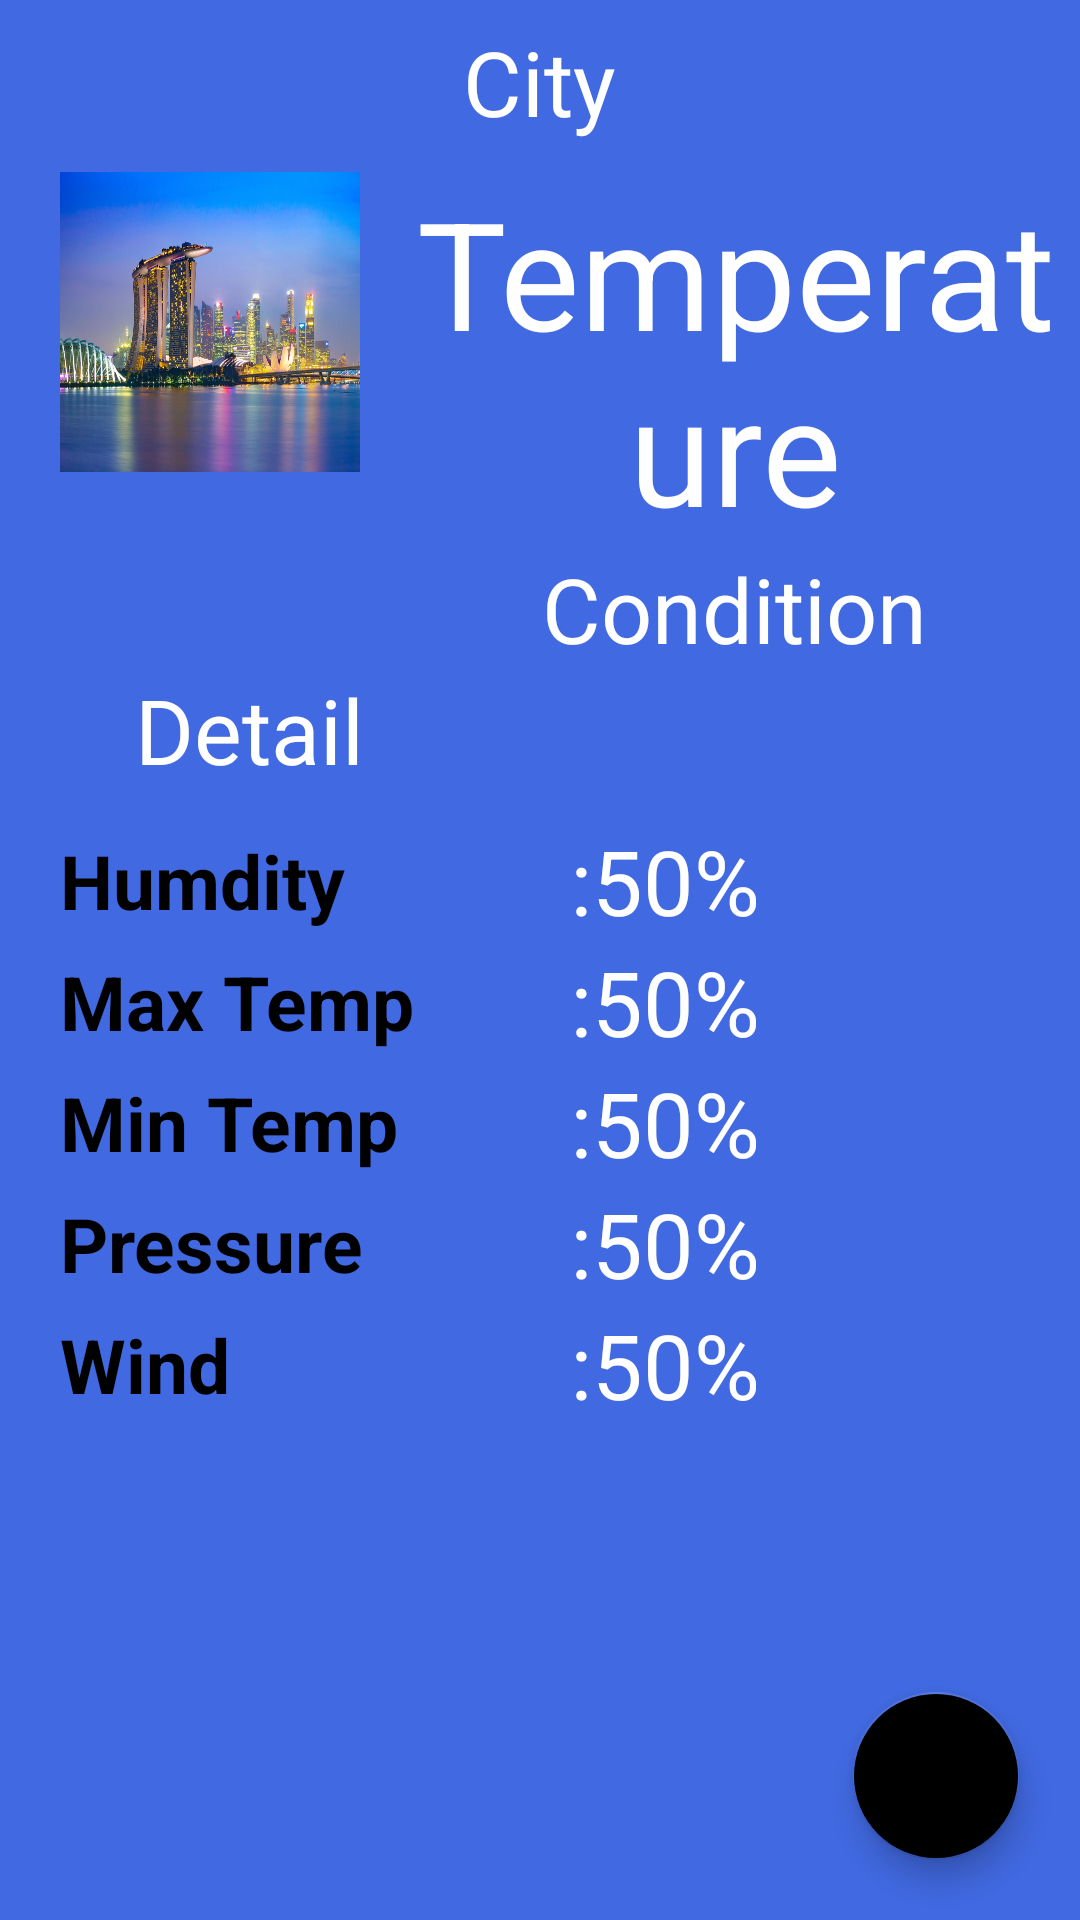

Locate icon controls on the screen. Image size 1080 × 1920, boxes as (x1, y1, x2, y2).
sgweather: (60, 172, 360, 472)
